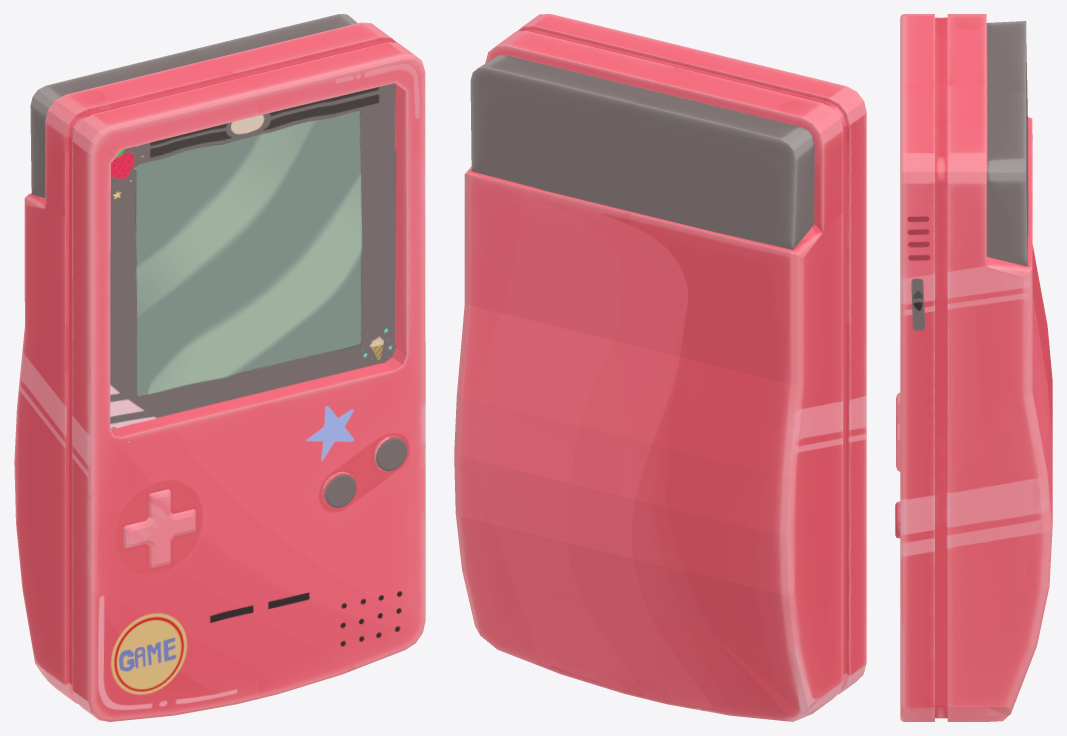
The model's file is modelB.glb.
3 renders of one model, left to right at view 1: azimuth 30°, elevation 25°; view 2: azimuth 150°, elevation 25°; view 3: azimuth 270°, elevation 25°, orthographic. The views are drawn at different scales.
Visible parts, largest first — view 1: pCube3_gembBOI__0; view 2: pCube3_gembBOI__0; view 3: pCube3_gembBOI__0.
Boxes of the visible parts, bbox=[...] form: pCube3_gembBOI__0: bbox=[14, 14, 425, 721]; pCube3_gembBOI__0: bbox=[454, 14, 866, 721]; pCube3_gembBOI__0: bbox=[895, 14, 1052, 721].
Bounding box in the file's own units: 3.97 × 6.85 × 1.68.
1 material, 1 textured.
